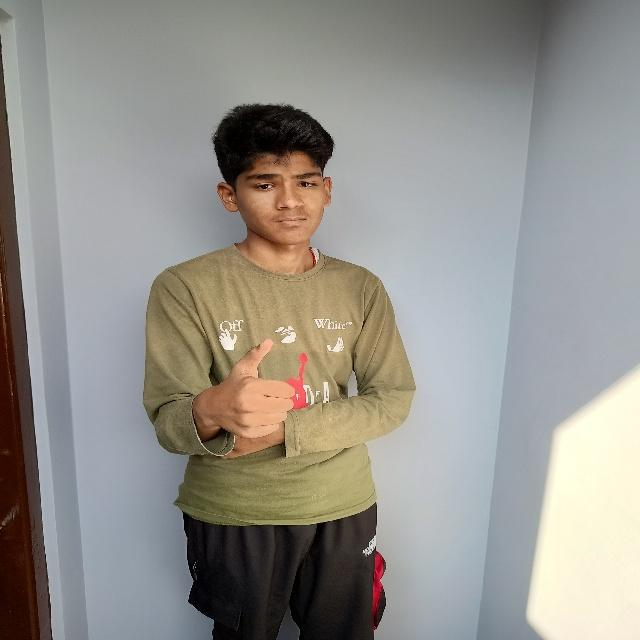Thumbs Up: (199, 336, 299, 442)
